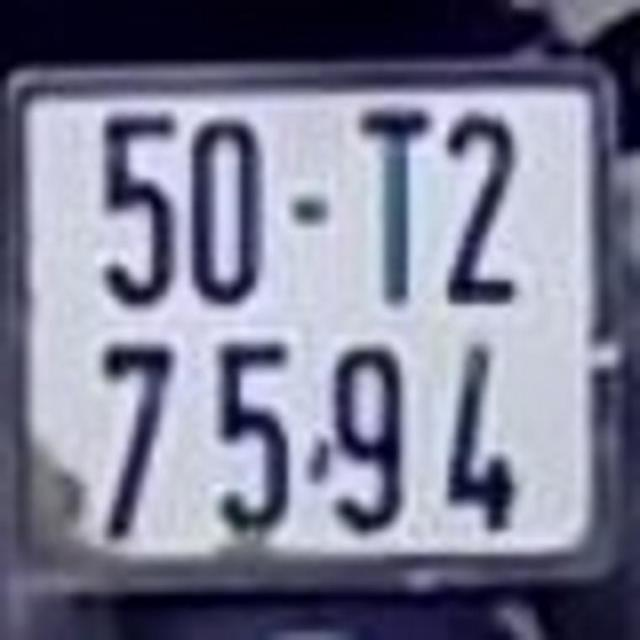0: (189, 114, 267, 309)
2: (446, 110, 517, 304)
4: (446, 341, 516, 534)
5: (212, 336, 292, 543), (97, 109, 179, 306)
7: (99, 342, 176, 540)
9: (334, 342, 404, 532)
T: (356, 103, 434, 313)
